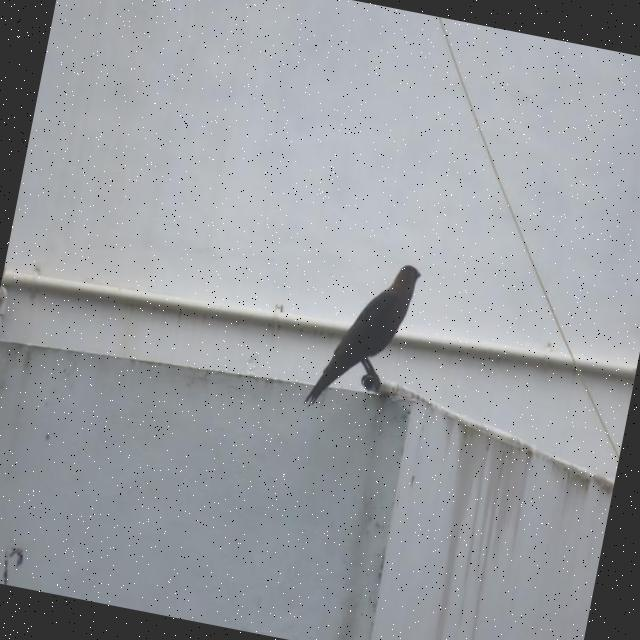crow: (294, 242, 431, 438)
